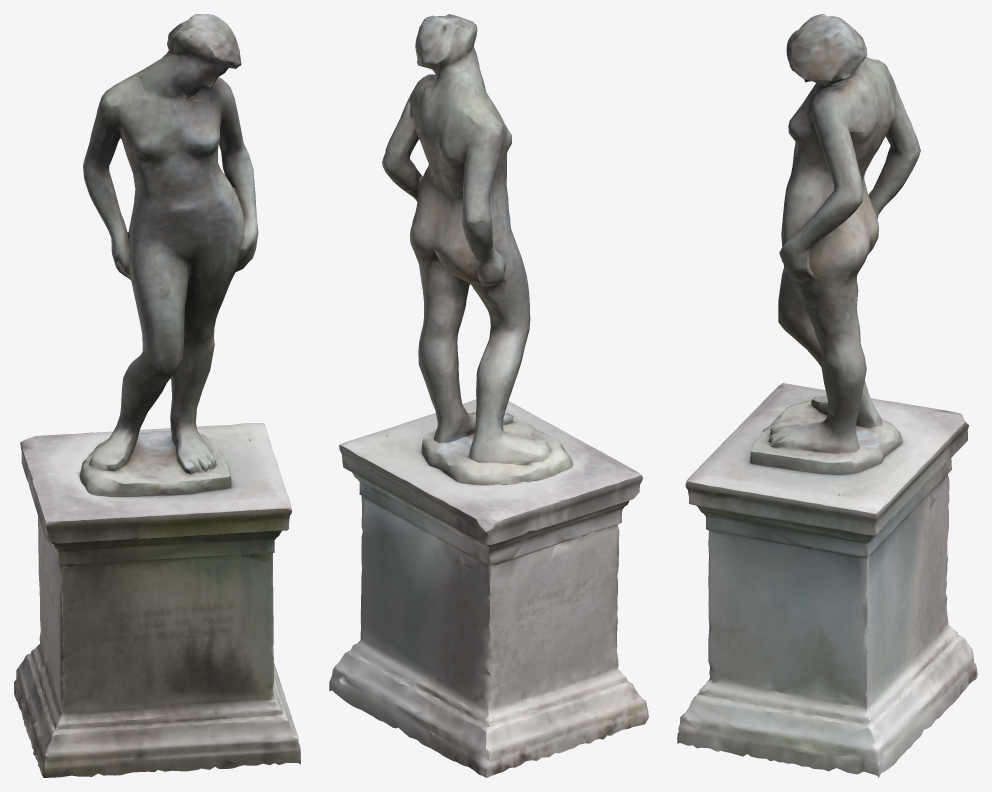
Rendered from la-pureté--costas-valsensis--1955-55c49a.glb.
3 views of the same model, side by side, from view 1: azimuth 30°, elevation 25°; view 2: azimuth 150°, elevation 25°; view 3: azimuth 270°, elevation 25° (orthographic). The views are drawn at different scales.
Parts seen in each view (by area): view 1: PropMesh; view 2: PropMesh; view 3: PropMesh.
Part boxes in pixels (x1=…): PropMesh: x1=14, y1=14, x2=300, y2=777; PropMesh: x1=329, y1=14, x2=648, y2=777; PropMesh: x1=677, y1=14, x2=977, y2=777.
Size of the model in its own units: 0.9145 by 2.2 by 0.8393.
Materials: 1 (1 with a texture image).
